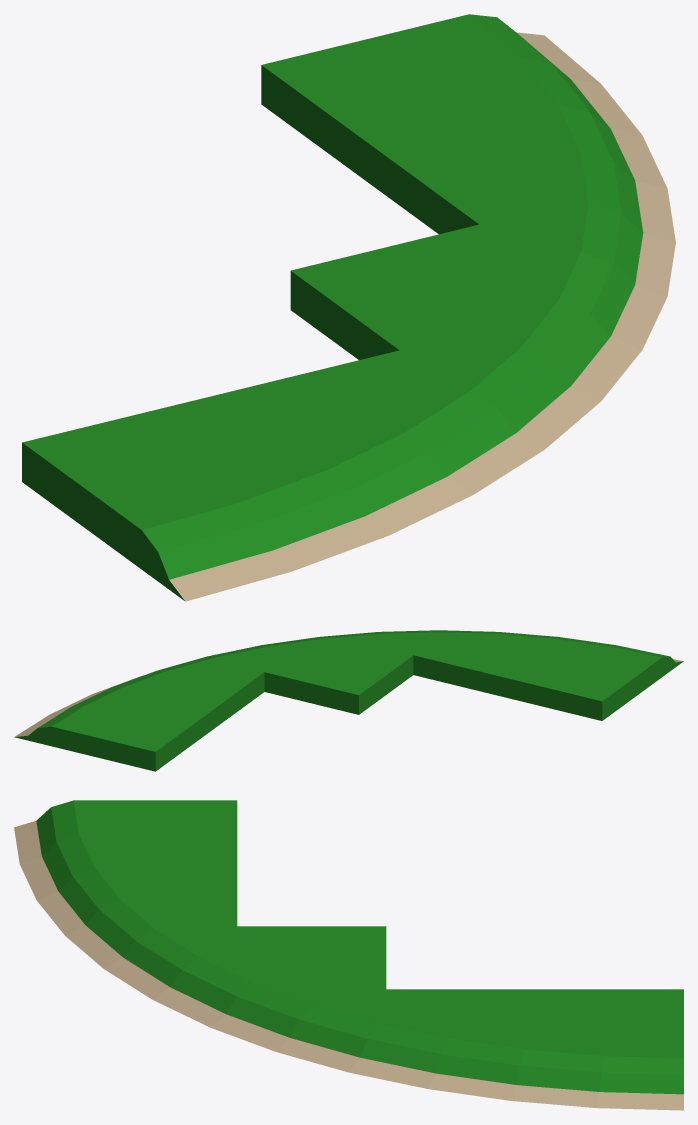
The model's file is path_edge_corner_inner_x3.obj.
3 renders of one model, top to bottom at view 1: azimuth 30°, elevation 25°; view 2: azimuth 150°, elevation 25°; view 3: azimuth 270°, elevation 25°, orthographic. The views are drawn at different scales.
Visible parts, largest first — view 1: 3Inner_Circle.008; view 2: 3Inner_Circle.008; view 3: 3Inner_Circle.008.
Part boxes in pixels (x1,y1,x2,y2): 3Inner_Circle.008: (22,14,675,601); 3Inner_Circle.008: (14,630,683,771); 3Inner_Circle.008: (14,800,683,1110).
Size of the model in its own units: 4.5 by 0.2 by 4.5.
